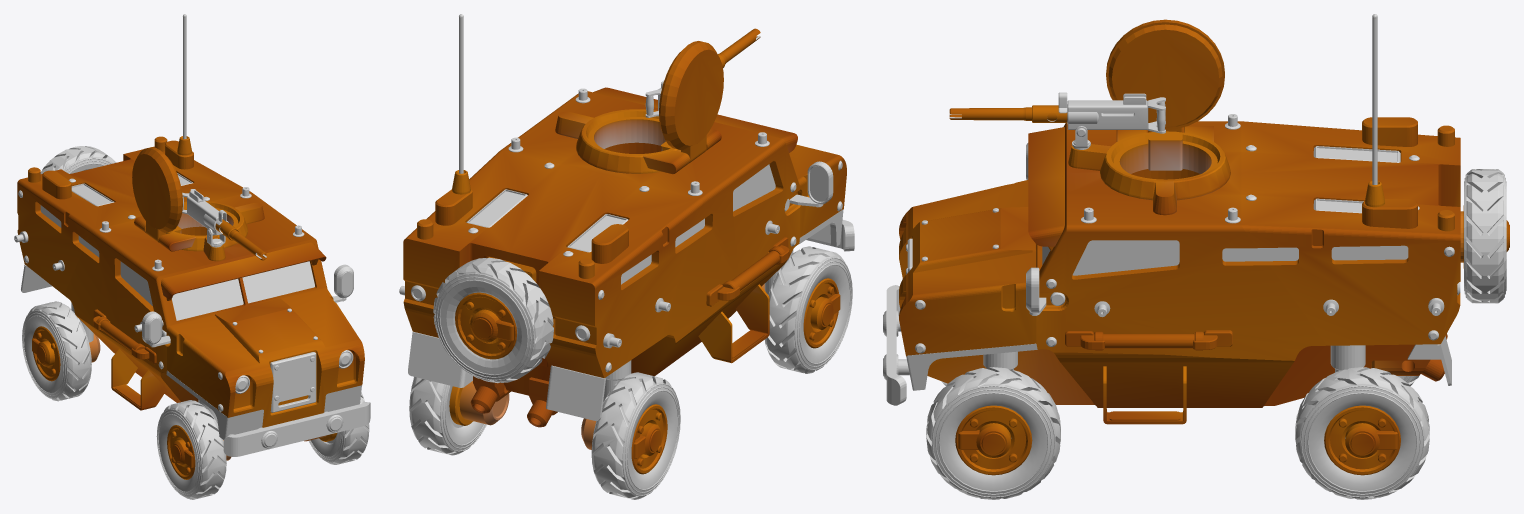
File: recon-red.fbx
3 views of the same model, side by side, from view 1: azimuth 30°, elevation 25°; view 2: azimuth 150°, elevation 25°; view 3: azimuth 270°, elevation 25° (orthographic). The views are drawn at different scales.
Parts seen in each view (by area): view 1: recon-red_Baked; view 2: recon-red_Baked; view 3: recon-red_Baked.
Part boxes in pixels (bbox=[...]): recon-red_Baked: bbox=[14, 14, 370, 499]; recon-red_Baked: bbox=[399, 14, 854, 499]; recon-red_Baked: bbox=[883, 14, 1509, 499].
Size of the model in its own units: 40.16 by 63.46 by 76.14.
